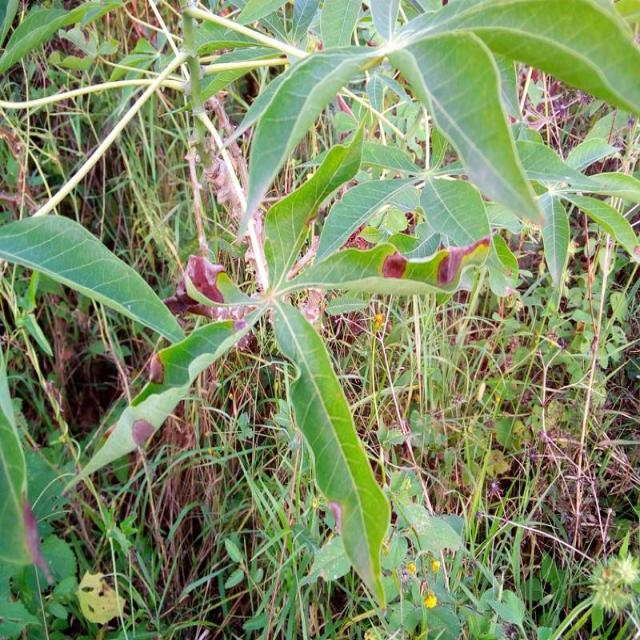cassava leaf: (0, 0, 637, 615), (269, 296, 390, 612), (387, 27, 546, 226), (234, 43, 382, 242), (0, 211, 186, 346)
